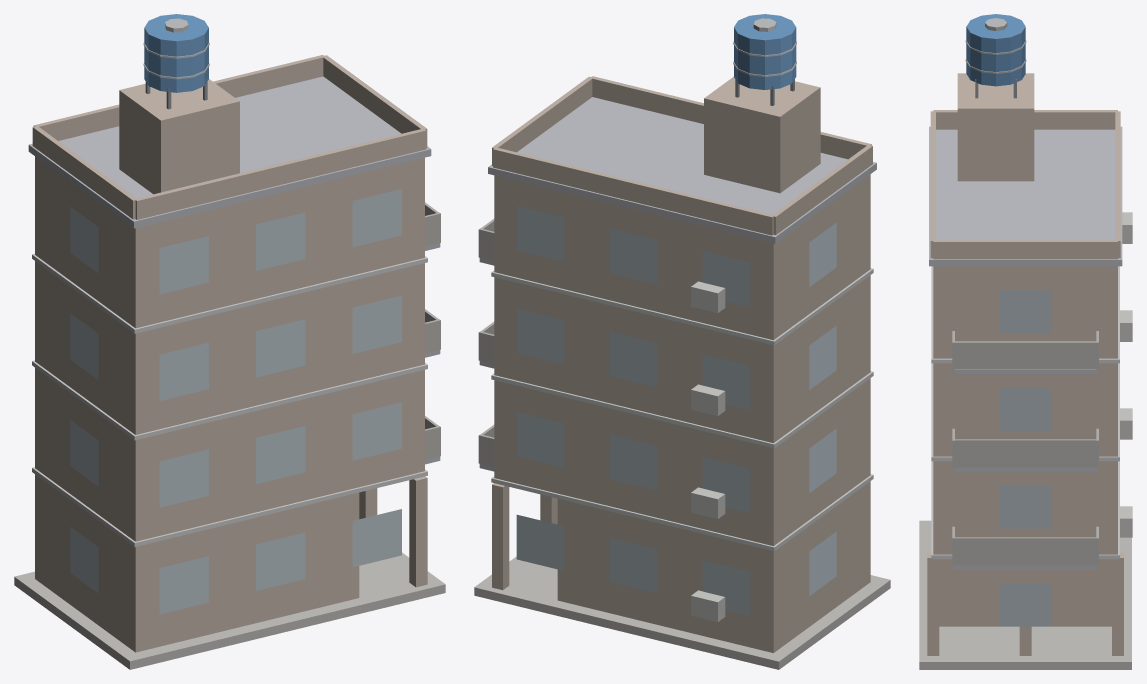
The model's file is 07_residential_low-07.glb.
The picture shows the model from 3 angles, left to right: view 1: azimuth 30°, elevation 25°; view 2: azimuth 150°, elevation 25°; view 3: azimuth 270°, elevation 25°; orthographic projection. The views are drawn at different scales.
Size of the model in its own units: 10 by 17.27 by 6.12.
